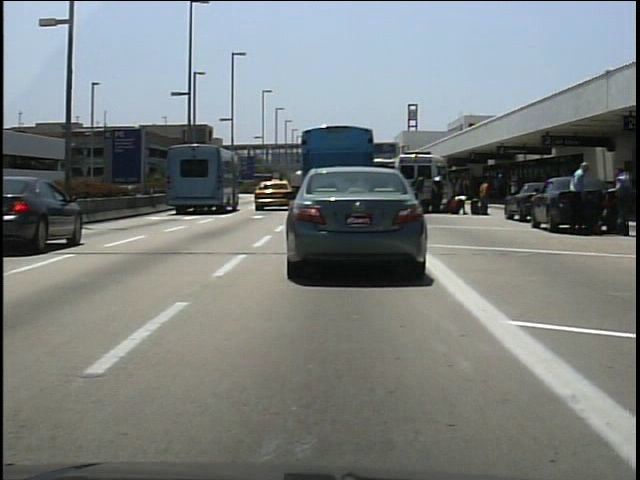person: (562, 157, 595, 239), (607, 162, 636, 240), (428, 172, 448, 217), (452, 173, 471, 219), (412, 171, 430, 218), (478, 178, 496, 219)
